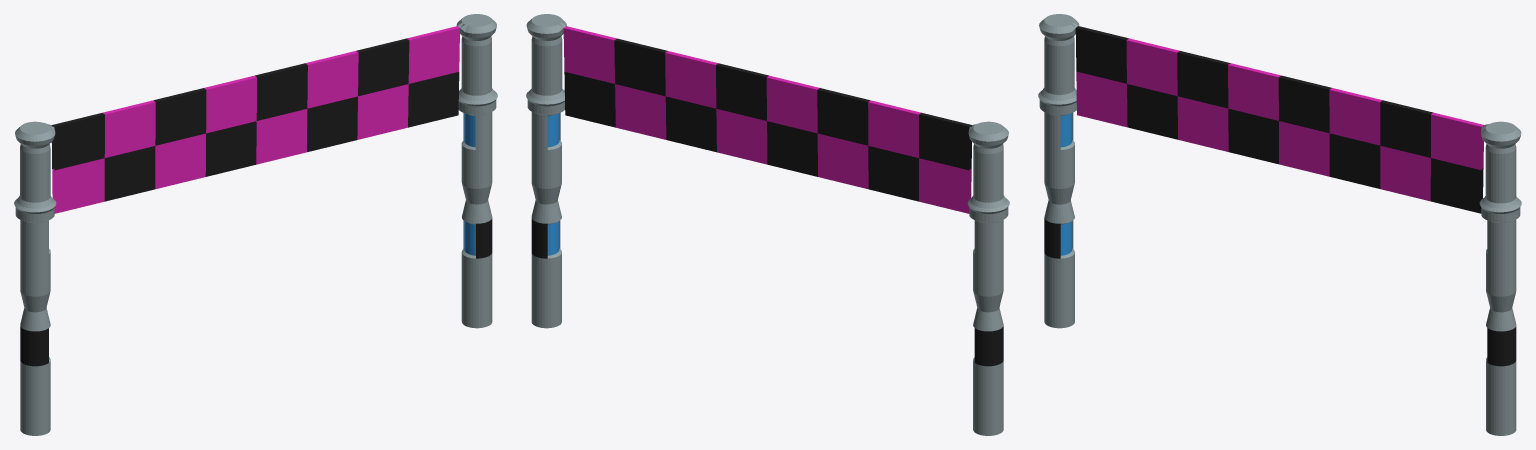
Rendered from chegada.fbx.
The picture shows the model from 3 angles, left to right: view 1: azimuth 30°, elevation 25°; view 2: azimuth 150°, elevation 25°; view 3: azimuth 330°, elevation 25°; orthographic projection.
Visible parts, largest first — view 1: Cylinder.001; view 2: Cylinder.001; view 3: Cylinder.001.
Boxes of the visible parts, x1,y1,x2,y2 form: Cylinder.001: (14,14,497,435); Cylinder.001: (526,14,1009,435); Cylinder.001: (1038,14,1521,435).
Bounding box in the file's own units: 1432 × 863 × 110.
